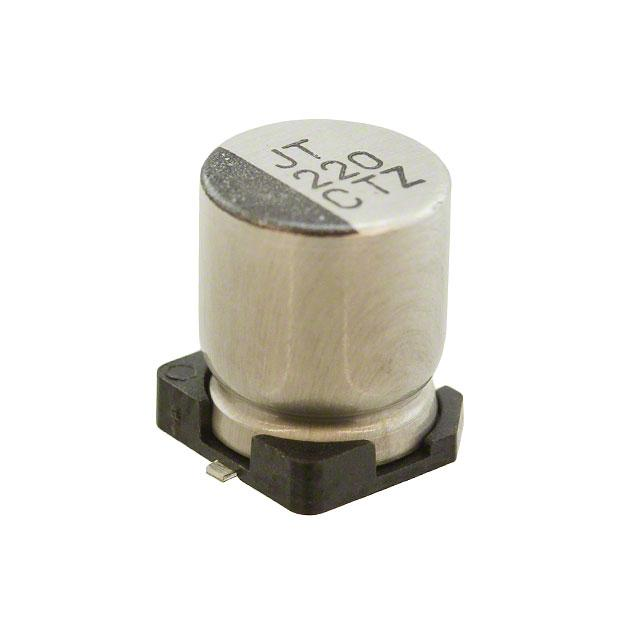Resistor: (162, 118, 461, 518)
